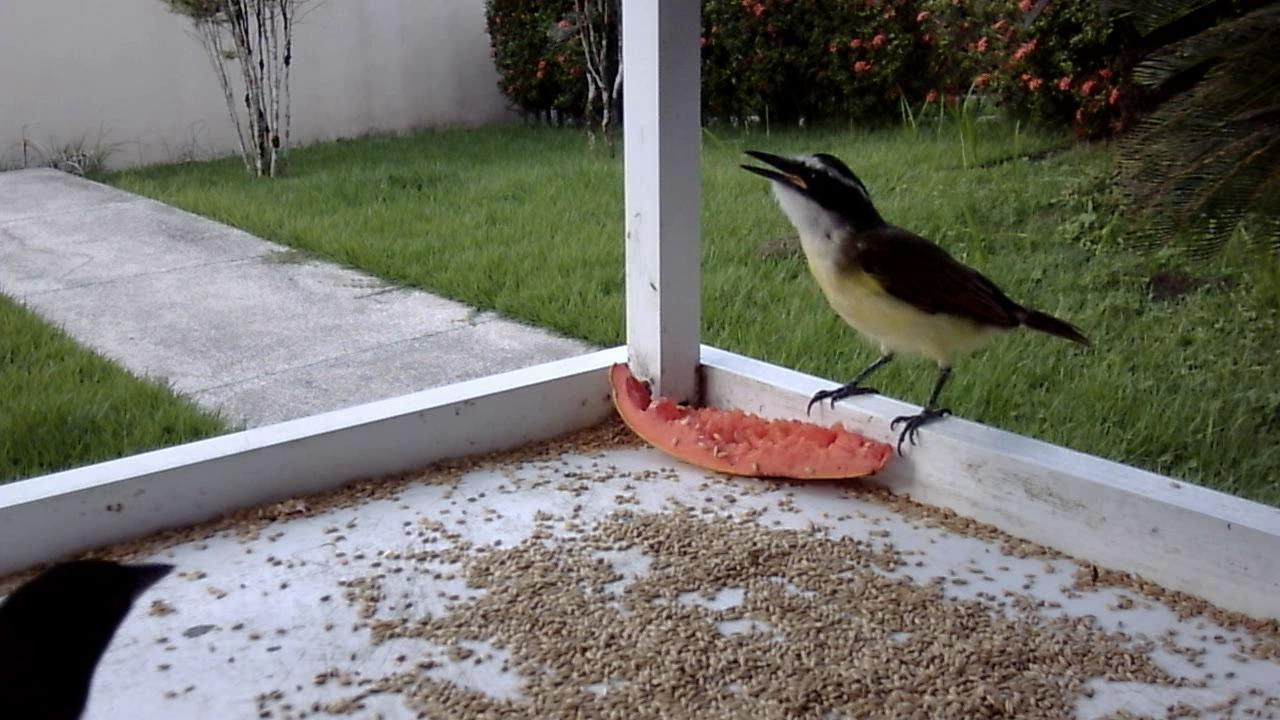bem_te_vi: (727, 135, 1100, 467)
